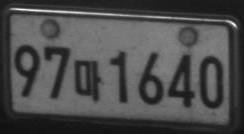0: (199, 56, 224, 108)
1: (108, 51, 134, 103)
4: (167, 54, 195, 108)
6: (138, 52, 164, 104)
7: (43, 45, 71, 99)
9: (14, 44, 40, 97)
마: (73, 58, 101, 102)
